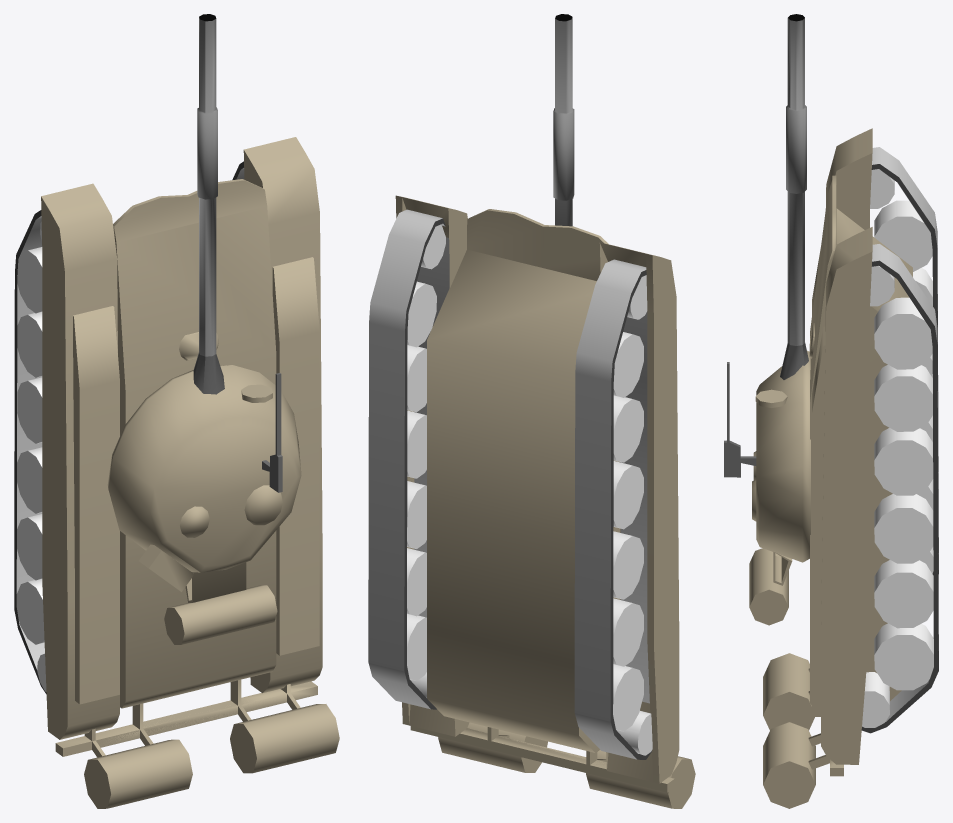
3 renders of one model, left to right at view 1: azimuth 30°, elevation 25°; view 2: azimuth 150°, elevation 25°; view 3: azimuth 270°, elevation 25°, orthographic. The views are drawn at different scales.
Parts seen in each view (by area): view 1: db_t80_p13972_Geometry_0.001, db_t80_d1_turret_p13751_Geometry_0.001, db_t80_d1_d2_gun_p13810_Geometry_0.001, db_t80_wheels_o2618_p14411_Geometry_0.001, db_t80_d1_rations_p13851_Geometry_0.001, db_t80_wheels_o2625_p15906_Geometry_0.001, db_t80_track_o2624_p15820_Geometry_0.001, db_t80_wheels_o2626_p16322_Geometry_0.001, db_t80_d1_hatch_p14962_Geometry_0.001, db_t80_track_o2624_p15810_Geometry_0.001, db_t80_d1_mount_p13861_Geometry_0.001, db_t80_d1_box_p13654_Geometry_0.001 (+2 smaller); view 2: db_t80_p13972_Geometry_0.001, db_t80_track_o2624_p15820_Geometry_0.001, db_t80_wheels_o2618_p14411_Geometry_0.001, db_t80_wheels_o2625_p15906_Geometry_0.001, db_t80_wheels_o2626_p16322_Geometry_0.001, db_t80_d1_d2_gun_p13810_Geometry_0.001, db_t80_track_o2624_p15810_Geometry_0.001; view 3: db_t80_p13972_Geometry_0.001, db_t80_wheels_o2618_p14411_Geometry_0.001, db_t80_wheels_o2625_p15906_Geometry_0.001, db_t80_d1_turret_p13751_Geometry_0.001, db_t80_wheels_o2626_p16322_Geometry_0.001, db_t80_d1_d2_gun_p13810_Geometry_0.001, db_t80_track_o2624_p15810_Geometry_0.001, db_t80_track_o2624_p15820_Geometry_0.001, db_t80_d1_rations_p13851_Geometry_0.001, db_t80_d1_mgun_p13818_Geometry_0.001, db_t80_d1_d2_boot_p13800_Geometry_0.001, db_t80_d1_light_p13660_Geometry_0.001 (+1 smaller).
Part boxes in pixels (<box>): db_t80_p13972_Geometry_0.001: <box>41,137,339,808</box>; db_t80_d1_turret_p13751_Geometry_0.001: <box>107,365,301,572</box>; db_t80_d1_d2_gun_p13810_Geometry_0.001: <box>197,17,217,356</box>; db_t80_wheels_o2618_p14411_Geometry_0.001: <box>17,224,46,691</box>; db_t80_d1_rations_p13851_Geometry_0.001: <box>164,585,277,644</box>; db_t80_wheels_o2625_p15906_Geometry_0.001: <box>16,222,46,690</box>; db_t80_track_o2624_p15820_Geometry_0.001: <box>16,168,244,669</box>; db_t80_wheels_o2626_p16322_Geometry_0.001: <box>16,222,44,677</box>; db_t80_d1_hatch_p14962_Geometry_0.001: <box>180,485,282,537</box>; db_t80_track_o2624_p15810_Geometry_0.001: <box>14,161,243,694</box>; db_t80_d1_mount_p13861_Geometry_0.001: <box>185,562,246,602</box>; db_t80_d1_box_p13654_Geometry_0.001: <box>139,544,194,591</box>; db_t80_p13972_Geometry_0.001: <box>395,195,695,808</box>; db_t80_track_o2624_p15820_Geometry_0.001: <box>368,209,649,759</box>; db_t80_wheels_o2618_p14411_Geometry_0.001: <box>407,224,652,754</box>; db_t80_wheels_o2625_p15906_Geometry_0.001: <box>407,239,652,755</box>; db_t80_wheels_o2626_p16322_Geometry_0.001: <box>407,257,652,755</box>; db_t80_d1_d2_gun_p13810_Geometry_0.001: <box>553,17,574,226</box>; db_t80_track_o2624_p15810_Geometry_0.001: <box>404,218,651,759</box>; db_t80_p13972_Geometry_0.001: <box>763,128,912,808</box>; db_t80_wheels_o2618_p14411_Geometry_0.001: <box>862,169,933,727</box>; db_t80_wheels_o2625_p15906_Geometry_0.001: <box>864,176,933,727</box>; db_t80_d1_turret_p13751_Geometry_0.001: <box>756,350,810,562</box>; db_t80_wheels_o2626_p16322_Geometry_0.001: <box>862,169,933,727</box>; db_t80_d1_d2_gun_p13810_Geometry_0.001: <box>786,18,806,345</box>; db_t80_track_o2624_p15810_Geometry_0.001: <box>861,164,938,733</box>; db_t80_track_o2624_p15820_Geometry_0.001: <box>872,147,938,721</box>; db_t80_d1_rations_p13851_Geometry_0.001: <box>749,548,788,625</box>; db_t80_d1_mgun_p13818_Geometry_0.001: <box>724,362,756,477</box>; db_t80_d1_d2_boot_p13800_Geometry_0.001: <box>780,343,808,379</box>; db_t80_d1_light_p13660_Geometry_0.001: <box>755,389,787,407</box>.
Bounding box in the file's own units: 3.62 × 10.32 × 2.73.
